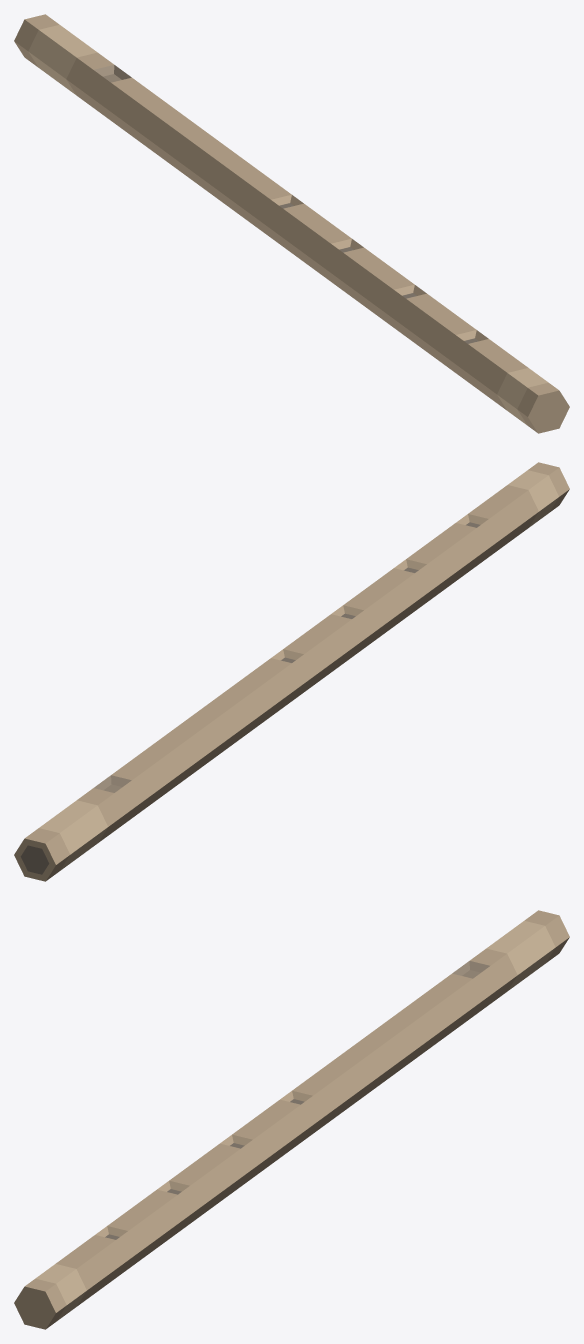
The model's file is SM_Prop_Flute_03.fbx.
3 views of the same model, one above another, from view 1: azimuth 30°, elevation 25°; view 2: azimuth 150°, elevation 25°; view 3: azimuth 330°, elevation 25° (orthographic).
Parts seen in each view (by area): view 1: SM_Prop_Flute_03; view 2: SM_Prop_Flute_03; view 3: SM_Prop_Flute_03.
Part boxes in pixels (box(x1,y1,x2,y2)): SM_Prop_Flute_03: box(14, 14, 569, 433); SM_Prop_Flute_03: box(14, 462, 569, 881); SM_Prop_Flute_03: box(14, 910, 569, 1329).
Bounding box in the file's own units: 0.000345 × 0.000299 × 0.0073.
1 material, 1 textured.
